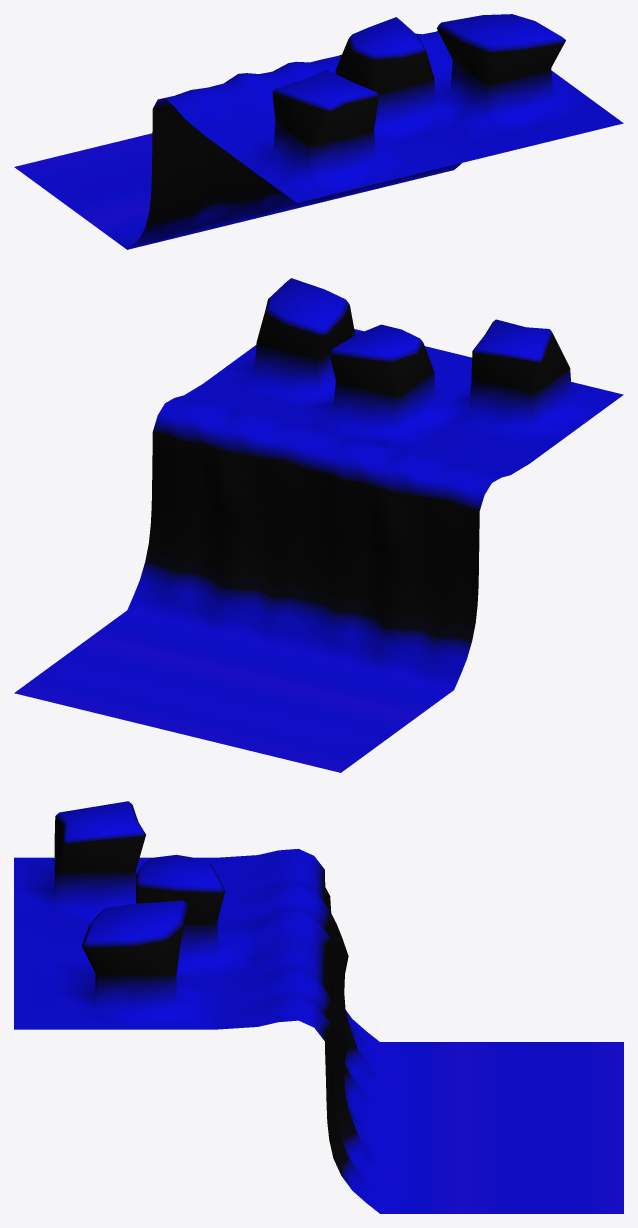
Rendered from WaterFallCliff02D 2M.fbx.
The picture shows the model from 3 angles, top to bottom: view 1: azimuth 30°, elevation 25°; view 2: azimuth 150°, elevation 25°; view 3: azimuth 270°, elevation 25°; orthographic projection. The views are drawn at different scales.
Parts seen in each view (by area): view 1: WaterFallCliff02D 2M; view 2: WaterFallCliff02D 2M; view 3: WaterFallCliff02D 2M.
Part boxes in pixels (box(x1,y1,x2,y2)): WaterFallCliff02D 2M: box(14, 14, 623, 249); WaterFallCliff02D 2M: box(14, 278, 623, 772); WaterFallCliff02D 2M: box(14, 801, 623, 1213).
Bounding box in the file's own units: 2 × 1.4 × 3.
